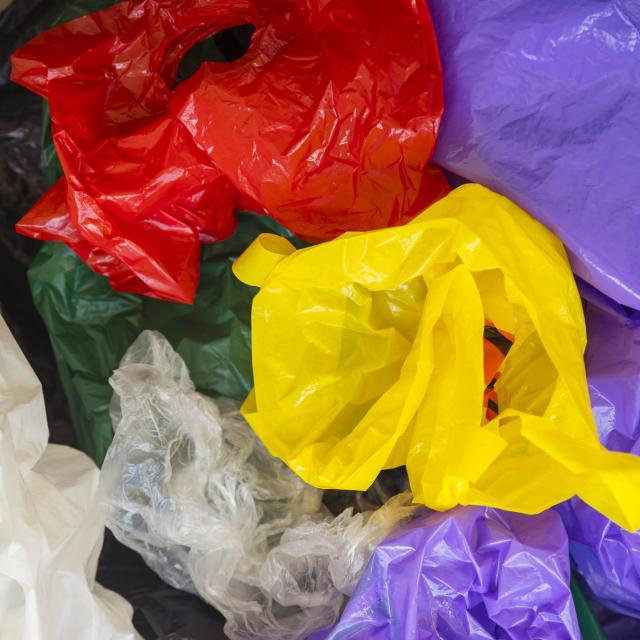Single-layer Plastic: (233, 184, 639, 532), (11, 0, 449, 303), (98, 330, 419, 640), (29, 212, 307, 464), (428, 0, 640, 309), (0, 318, 143, 639), (325, 506, 582, 639), (577, 279, 640, 455), (553, 496, 640, 618)
